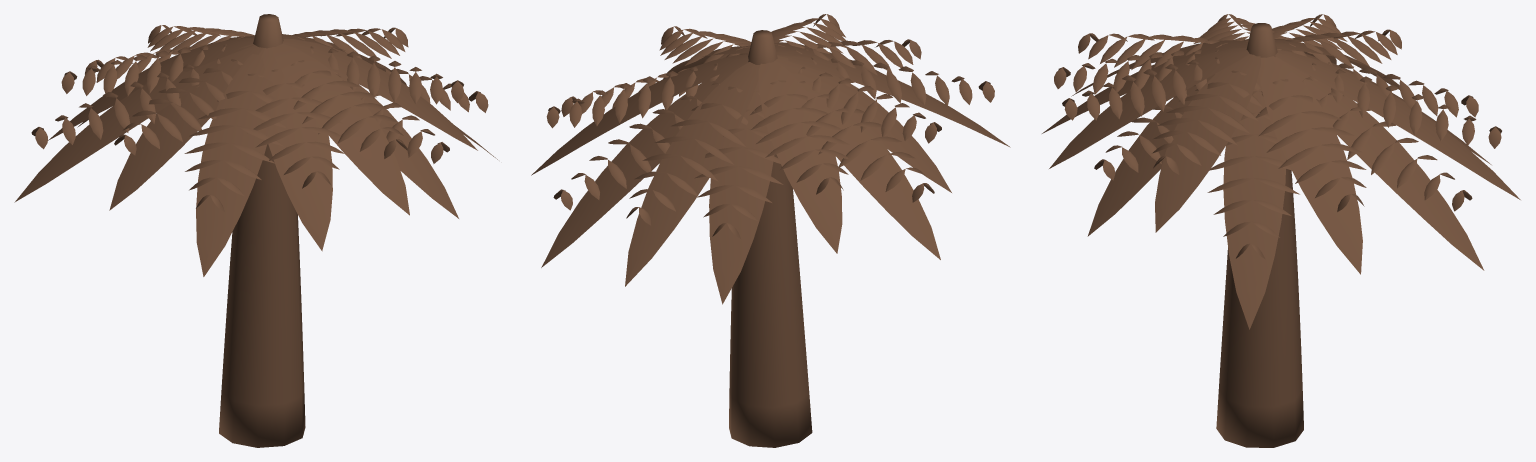
Rendered from palmeira_copacabana_LOD0-2.fbx.
The picture shows the model from 3 angles, left to right: view 1: azimuth 30°, elevation 25°; view 2: azimuth 150°, elevation 25°; view 3: azimuth 270°, elevation 25°; orthographic projection. The views are drawn at different scales.
Visible parts, largest first — view 1: palmeira_copacabana_LOD0; view 2: palmeira_copacabana_LOD0; view 3: palmeira_copacabana_LOD0.
Part boxes in pixels (x1,y1,x2,y2): palmeira_copacabana_LOD0: [14, 14, 497, 447]; palmeira_copacabana_LOD0: [531, 14, 1010, 447]; palmeira_copacabana_LOD0: [1042, 14, 1520, 447].
Size of what is drawn, in the model's own units: 570 by 501 by 537.
